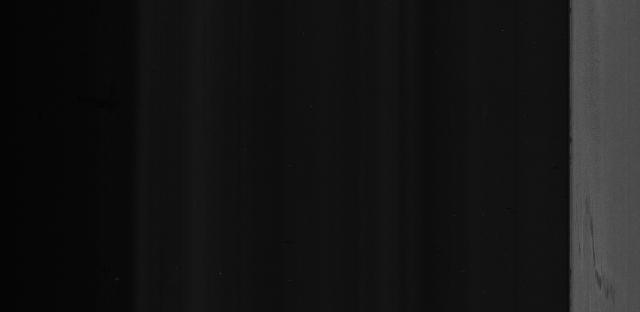silk_spot: (575, 196, 630, 312)
